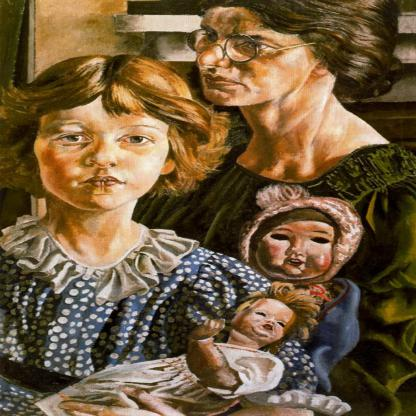face: (38, 90, 169, 212), (197, 8, 307, 105)
